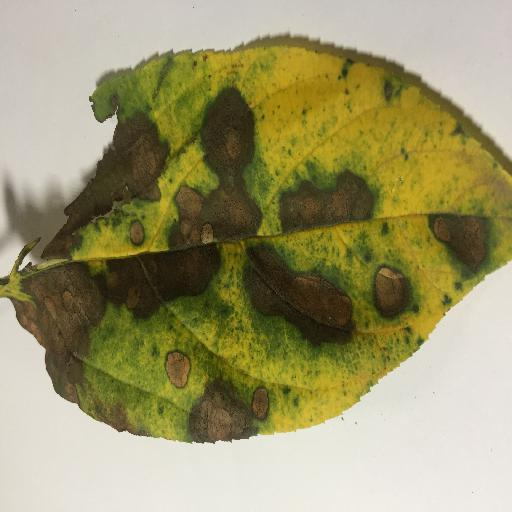Brown_Spot: (20, 276, 127, 428), (44, 132, 152, 258), (248, 247, 348, 345), (198, 101, 258, 232), (92, 255, 211, 300), (432, 218, 490, 279), (191, 389, 252, 444), (280, 187, 368, 218), (375, 262, 407, 313), (179, 196, 202, 250), (164, 348, 186, 389), (250, 390, 266, 411), (130, 221, 143, 246)
